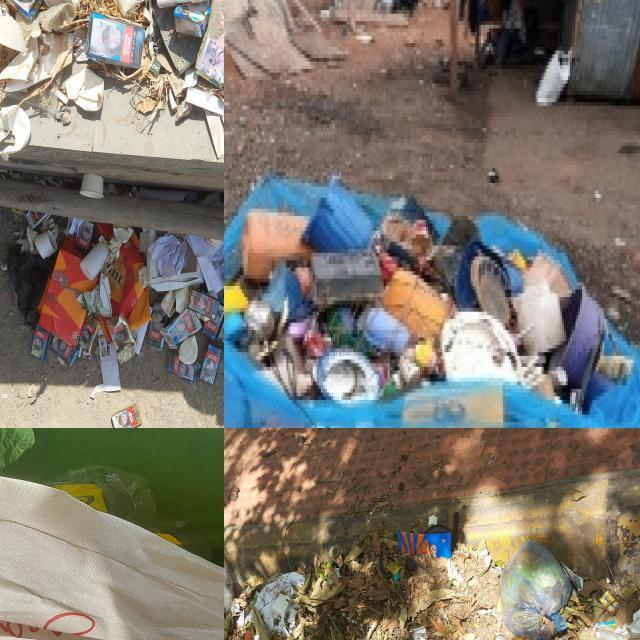Background: (0, 86, 224, 197)
Cig_bud: (44, 217, 54, 226), (50, 180, 61, 187), (52, 224, 59, 234), (53, 228, 59, 239), (63, 178, 74, 182), (0, 168, 8, 173), (49, 223, 55, 229), (41, 179, 47, 185), (59, 180, 63, 184), (0, 177, 3, 180)
Cig_pack: (87, 13, 144, 69), (196, 0, 224, 88), (161, 309, 202, 345), (202, 292, 224, 345), (106, 315, 134, 350), (79, 315, 101, 358), (167, 352, 198, 382), (199, 345, 222, 384), (189, 290, 219, 318), (50, 335, 78, 365), (203, 305, 224, 341), (6, 0, 42, 20), (112, 405, 141, 428), (75, 221, 95, 254), (32, 328, 49, 360), (148, 320, 164, 350), (26, 211, 50, 230), (189, 292, 207, 313), (220, 301, 223, 303)
Garbage: (224, 177, 633, 412), (224, 524, 640, 640), (0, 468, 224, 640), (8, 211, 224, 384), (95, 356, 120, 391), (112, 405, 141, 428)
Plastic: (441, 311, 544, 388), (559, 288, 606, 412), (302, 177, 373, 252), (455, 239, 513, 326), (224, 285, 249, 315), (394, 571, 401, 580)
Plastic_Bag: (46, 465, 210, 559), (501, 541, 572, 640), (8, 245, 56, 328), (254, 573, 305, 636), (224, 559, 235, 614)
Plastic_wraper: (398, 526, 451, 558), (599, 591, 620, 614), (387, 563, 402, 574), (336, 556, 343, 567), (327, 574, 333, 586), (336, 567, 342, 578), (335, 567, 340, 578), (531, 589, 533, 591), (538, 610, 540, 612), (516, 604, 517, 608)
Tetrapack: (174, 1, 212, 37)
Thermocol: (273, 593, 290, 618)
